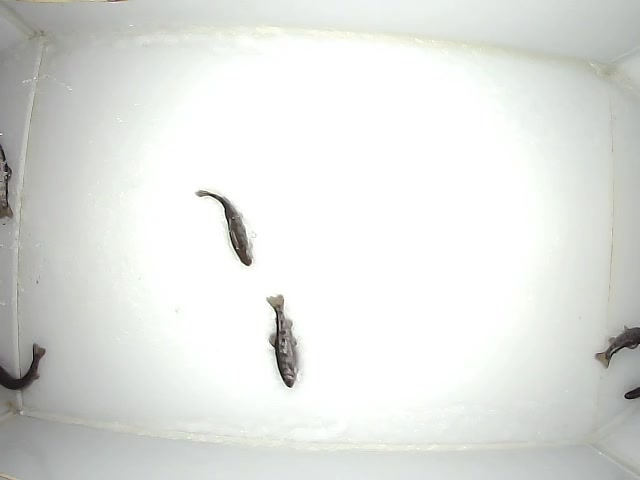fish: (192, 188, 257, 266), (261, 294, 302, 388), (1, 340, 50, 392), (592, 323, 640, 370)
